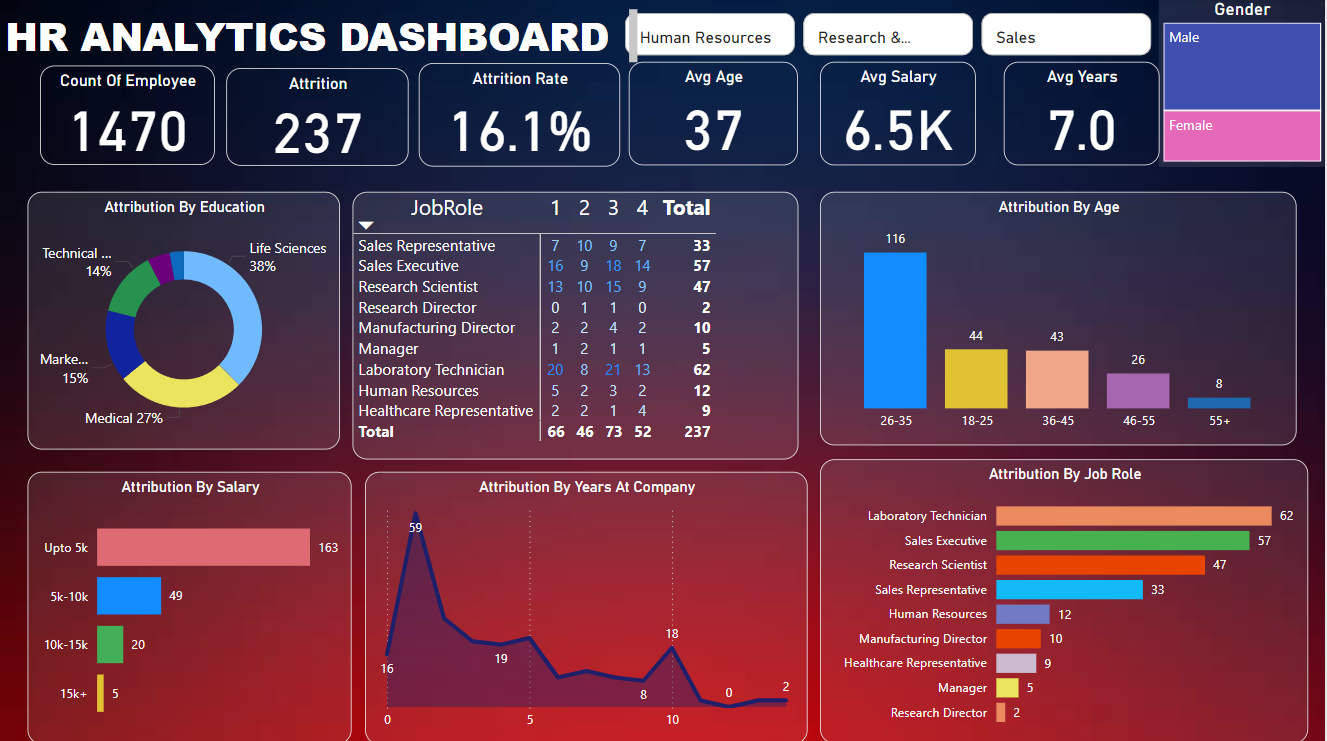

Layout of this report page (visuals, bound fields, positions):
{"tool":"powerbi","page":{"name":"Page 1","canvas":[1280,720],"ordinal":0},"visuals":[{"type":"card","title":"Count Of Employee","fields":{"Values":["CountNonNull(HR_Analytics (2).EmpID)"]},"box":[38.6,65.7,168.6,95.7],"z":0},{"type":"card","title":"Attrition Rate","fields":{"Values":["HR_Analytics (2).AttritionRate"]},"box":[404.3,62.9,178.6,100],"z":1000},{"type":"card","title":"Avg Age","fields":{"Values":["Avg(HR_Analytics (2).Age)"]},"box":[620,61.4,150,100],"z":2000},{"type":"card","title":"Attrition","fields":{"Values":["Sum(HR_Analytics (2).AttritionCount)"]},"box":[218.6,67.1,175.7,94.3],"z":3000},{"type":"card","title":"Avg Salary","fields":{"Values":["Avg(HR_Analytics (2).MonthlyIncome)"]},"box":[791.4,61.4,150,100],"z":4000},{"type":"card","title":"Avg Years","fields":{"Values":["Avg(HR_Analytics (2).YearsAtCompany)"]},"box":[968.6,61.4,150,100],"z":5000},{"type":"donutChart","title":"Attribution By Education","fields":{"Category":["HR_Analytics (2).EducationField"],"Y":["Sum(HR_Analytics (2).AttritionCount)"]},"box":[27.1,187.1,301.4,248.6],"z":6000},{"type":"columnChart","title":"Attribution By Age","fields":{"Category":["HR_Analytics (2).AgeGroup"],"Y":["Sum(HR_Analytics (2).AttritionCount)"]},"box":[791.4,201.4,460,230],"z":7000},{"type":"pivotTable","fields":{"Rows":["HR_Analytics (2).JobRole"],"Columns":["HR_Analytics (2).JobSatisfaction"],"Values":["Sum(HR_Analytics (2).AttritionCount)"]},"box":[340,187.1,430,258.6],"z":8000},{"type":"barChart","title":"Attribution By Salary","fields":{"Category":["HR_Analytics (2).SalarySlab"],"Y":["Sum(HR_Analytics (2).AttritionCount)"]},"box":[27.1,457.1,312.9,262.9],"z":9000},{"type":"areaChart","title":"Attribution By Years At Company","fields":{"Category":["HR_Analytics (2).YearsAtCompany"],"Y":["Sum(HR_Analytics (2).AttritionCount)"]},"box":[352.9,457.1,427.1,262.9],"z":10000},{"type":"barChart","title":"Attribution By Job Role","fields":{"Category":["HR_Analytics (2).JobRole"],"Y":["Sum(HR_Analytics (2).AttritionCount)"]},"box":[791.4,445.7,471.4,274.3],"z":11000},{"type":"treemap","title":"Gender","fields":{"Group":["HR_Analytics (2).Gender"],"Values":["Sum(HR_Analytics (2).AttritionCount)"]},"box":[1118.6,0,161.4,187.1],"z":12000},{"type":"advancedSlicerVisual","fields":{"Values":["HR_Analytics (2).Department"]},"box":[511.4,10,607.1,51.4],"z":12001},{"type":"textbox","box":[0,5.7,555.7,61.4],"z":12002}]}

Visuals, with their boxes in screenshot pixels (x1, y1, x2, y2), scaled from the page's 1280x720 canvas onto the 1327x741 screenshot:
"Count Of Employee" card: {"x1": 40, "y1": 68, "x2": 215, "y2": 166}
"Attrition Rate" card: {"x1": 419, "y1": 65, "x2": 604, "y2": 168}
"Avg Age" card: {"x1": 643, "y1": 63, "x2": 798, "y2": 166}
"Attrition" card: {"x1": 227, "y1": 69, "x2": 409, "y2": 166}
"Avg Salary" card: {"x1": 820, "y1": 63, "x2": 976, "y2": 166}
"Avg Years" card: {"x1": 1004, "y1": 63, "x2": 1160, "y2": 166}
"Attribution By Education" donutChart: {"x1": 28, "y1": 193, "x2": 341, "y2": 448}
"Attribution By Age" columnChart: {"x1": 820, "y1": 207, "x2": 1297, "y2": 444}
pivotTable - HR_Analytics (2).JobRole x HR_Analytics (2).JobSatisfaction: {"x1": 352, "y1": 193, "x2": 798, "y2": 459}
"Attribution By Salary" barChart: {"x1": 28, "y1": 470, "x2": 352, "y2": 740}
"Attribution By Years At Company" areaChart: {"x1": 366, "y1": 470, "x2": 809, "y2": 740}
"Attribution By Job Role" barChart: {"x1": 820, "y1": 459, "x2": 1309, "y2": 740}
"Gender" treemap: {"x1": 1160, "y1": 0, "x2": 1326, "y2": 193}
advancedSlicerVisual - HR_Analytics (2).Department: {"x1": 530, "y1": 10, "x2": 1160, "y2": 63}
textbox: {"x1": 0, "y1": 6, "x2": 576, "y2": 69}
